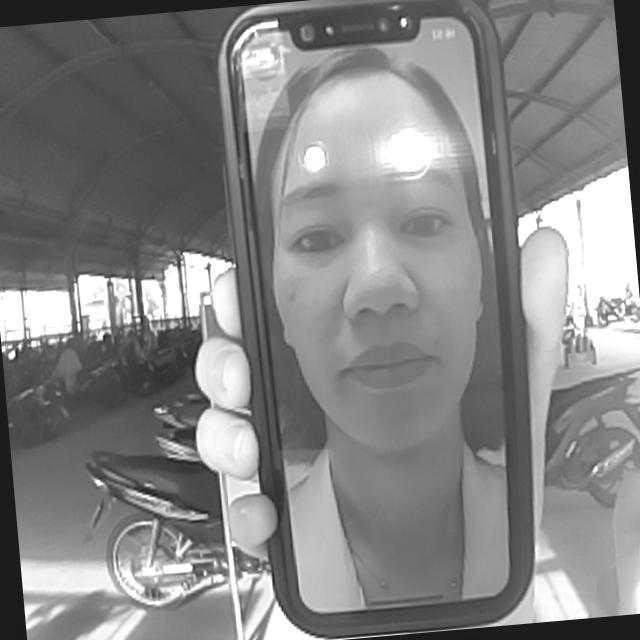fake: (213, 0, 557, 640)
